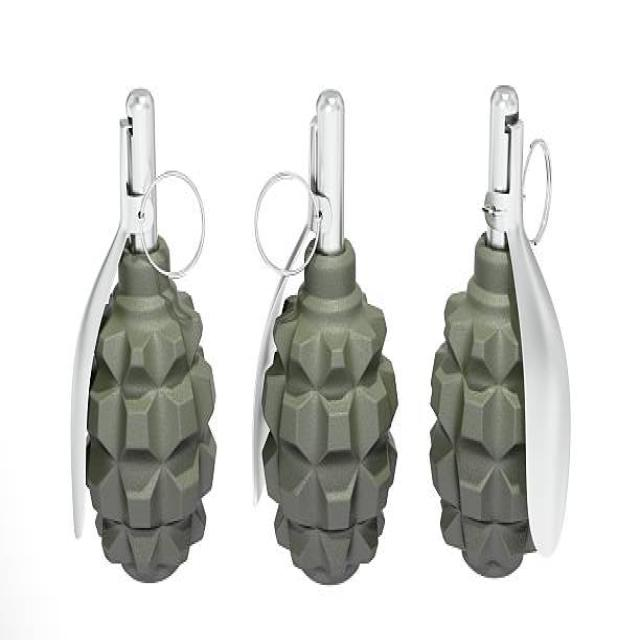grenade: (245, 89, 402, 587), (67, 89, 222, 589), (431, 79, 573, 580)
